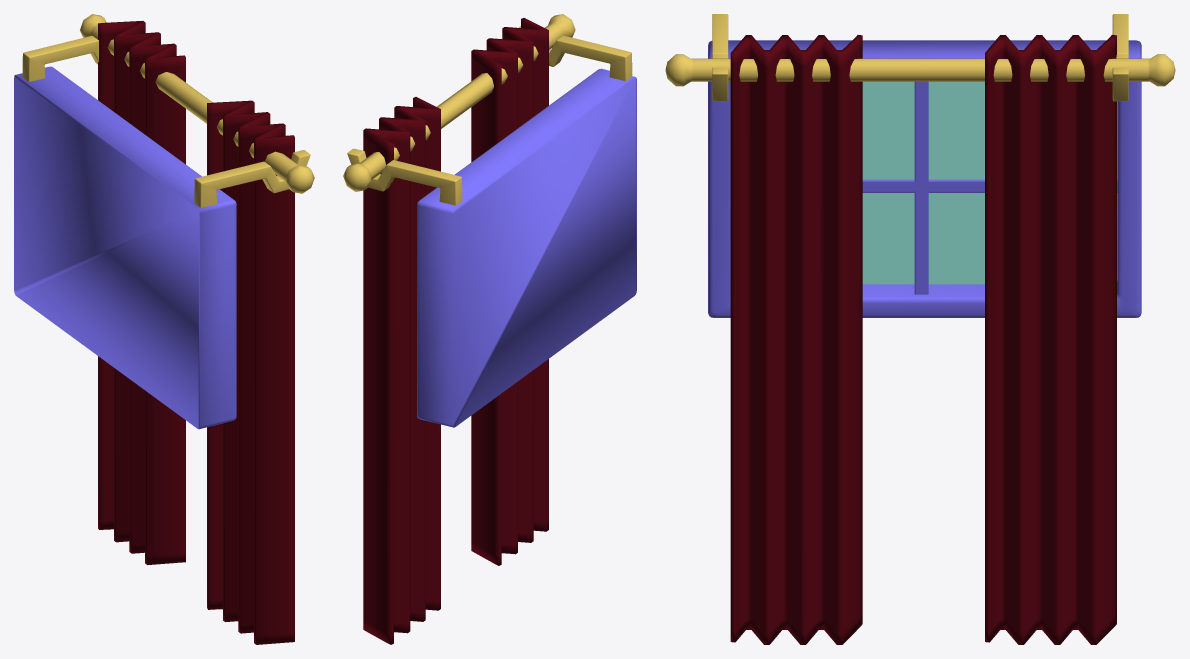
The model's file is 阁楼上的窗户+窗帘.fbx.
3 views of the same model, side by side, from view 1: azimuth 30°, elevation 25°; view 2: azimuth 150°, elevation 25°; view 3: azimuth 270°, elevation 25° (orthographic). The views are drawn at different scales.
Parts seen in each view (by area): view 1: living room window.002; view 2: living room window.002; view 3: living room window.002.
Boxes of the visible parts, left/top/right/bottom form: living room window.002: left=14, top=14, right=314, bottom=644; living room window.002: left=343, top=14, right=636, bottom=644; living room window.002: left=665, top=14, right=1175, bottom=644.
Bounding box in the file's own units: 175 × 749 × 588.
